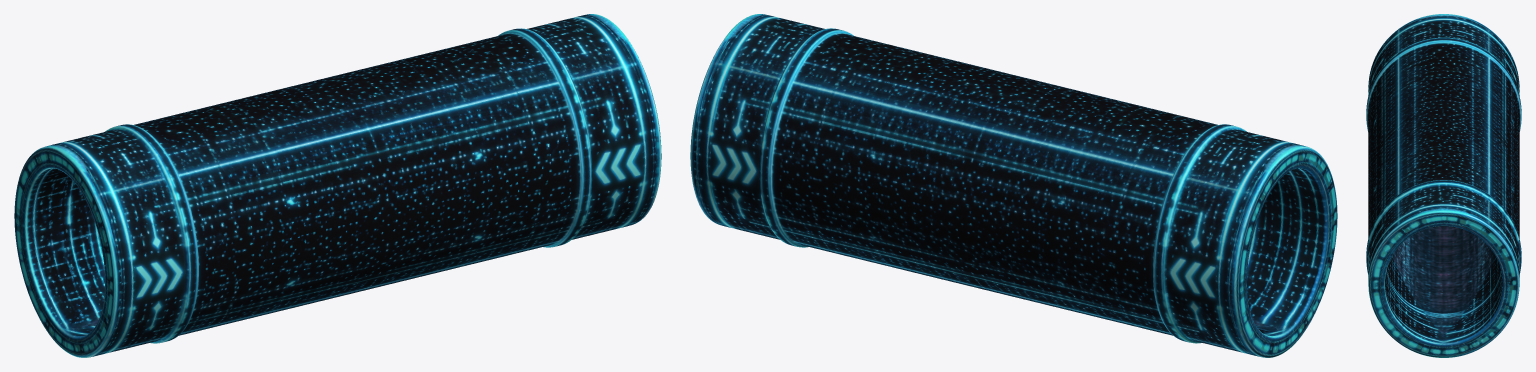
File: Meshy_AI_Holographic_Data_Cyli_0809094115_texture.fbx
3 views of the same model, side by side, from view 1: azimuth 30°, elevation 25°; view 2: azimuth 150°, elevation 25°; view 3: azimuth 270°, elevation 25° (orthographic). The views are drawn at different scales.
Visible parts, largest first — view 1: mesh_node; view 2: mesh_node; view 3: mesh_node.
Boxes of the visible parts, left/top/right/bottom form: mesh_node: left=14, top=14, right=661, bottom=357; mesh_node: left=690, top=14, right=1337, bottom=357; mesh_node: left=1366, top=14, right=1521, bottom=357.
Bounding box in the file's own units: 190 × 67.54 × 62.84.
Materials: 1 (1 with a texture image).
